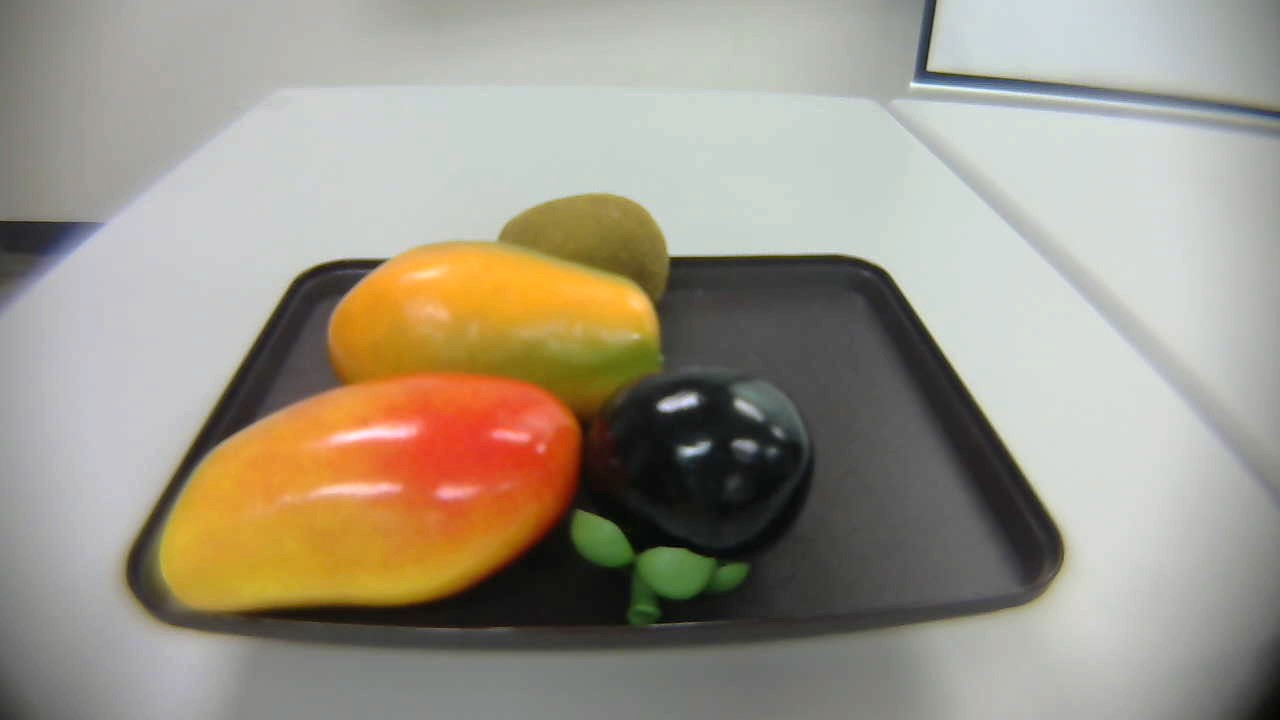kiwi fruit: (495, 188, 682, 304)
mangosteen: (576, 368, 824, 634)
papya: (320, 239, 670, 426)
red mango: (150, 368, 588, 631)
